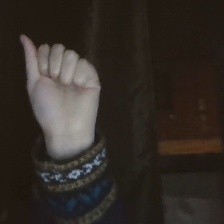A: (10, 26, 115, 136)
